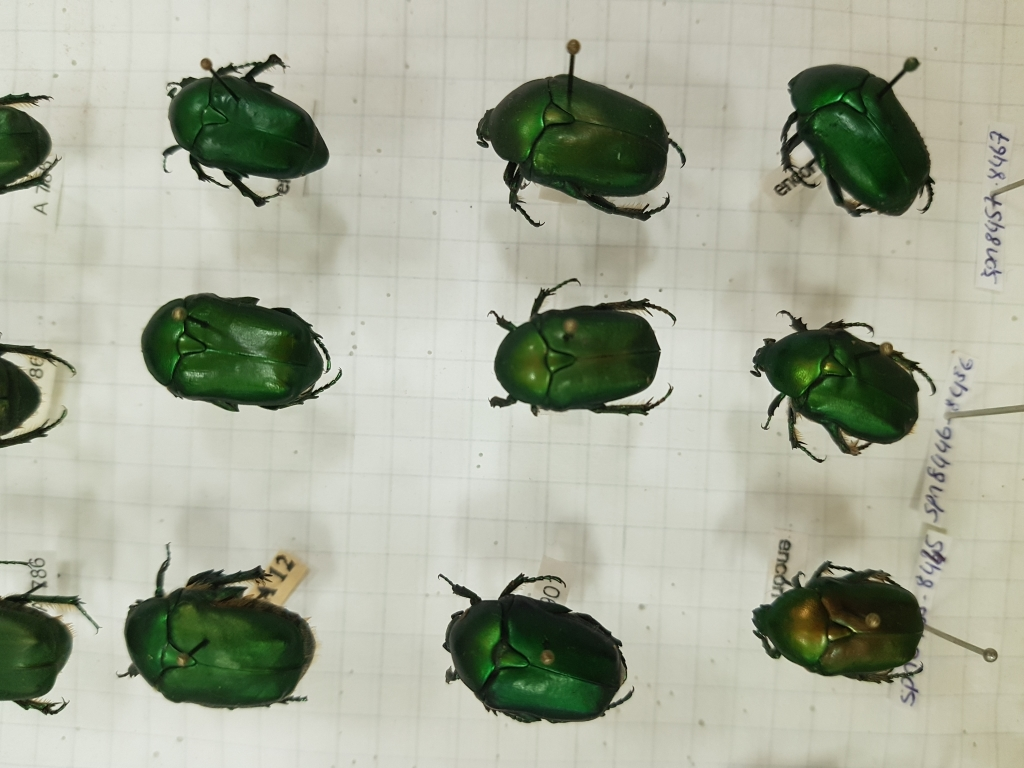Protaetia_ungarica_americana: (465, 67, 704, 234), (105, 537, 329, 715), (423, 563, 640, 721), (739, 305, 944, 466), (484, 273, 683, 428), (157, 46, 329, 213), (132, 287, 350, 418)
